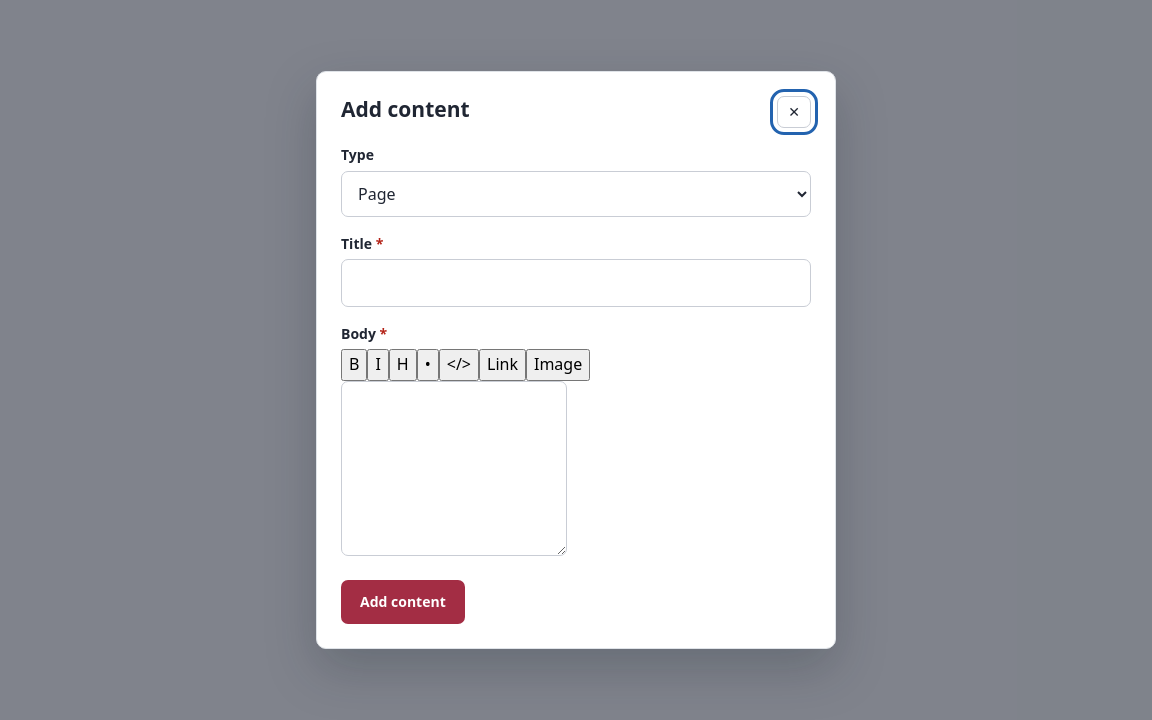
Test: CreateContentModal › creates a quiz whose results stay hidden until the teacher publishes them
Later steps or results of the test are not shown.
Step 1. Select "Quiz" in the dropdown labelled "Type" → (576, 194), box 341,171 -> 811,217
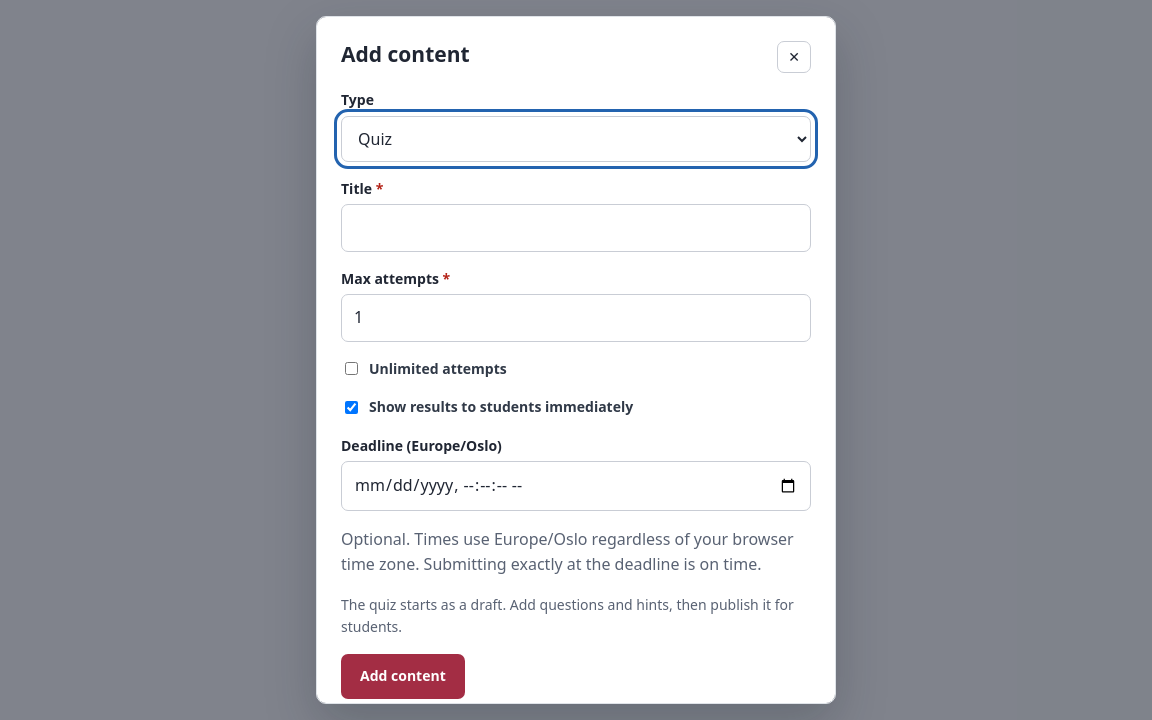
Step 2. Type "Exam" into the field labelled "Title *" → (576, 228), box 341,204 -> 811,252
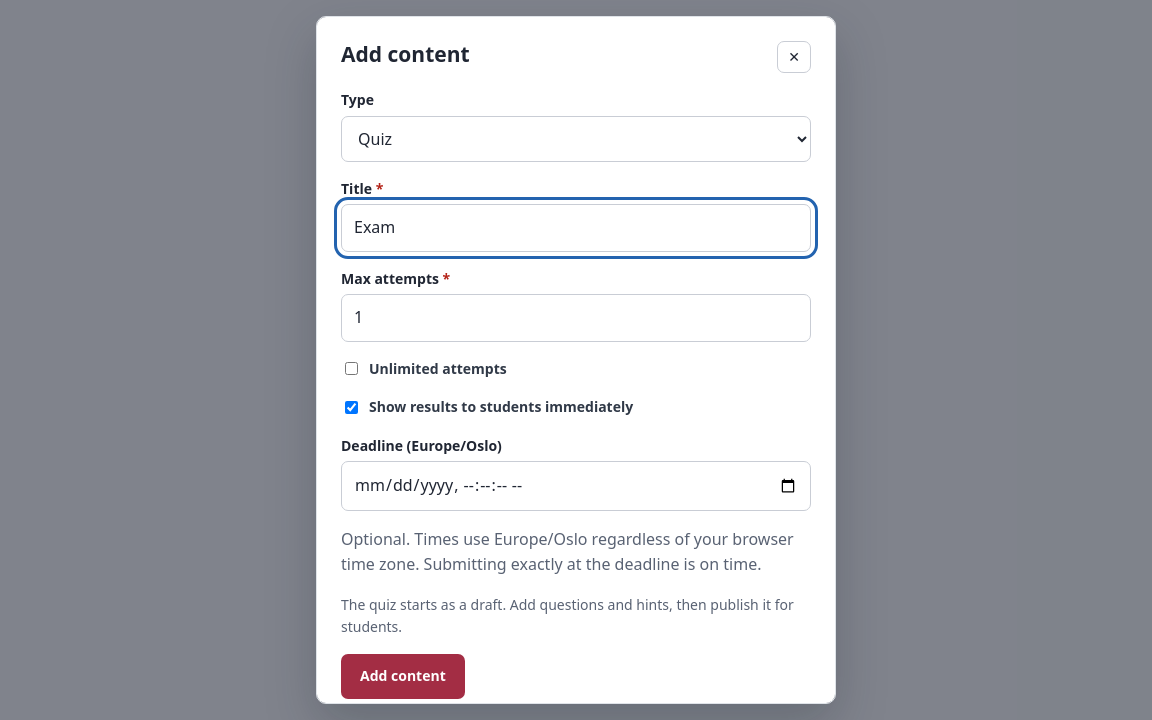
Expected: the checkbox labelled "Show results to students immediately" is checked, 345,401 -> 358,414
